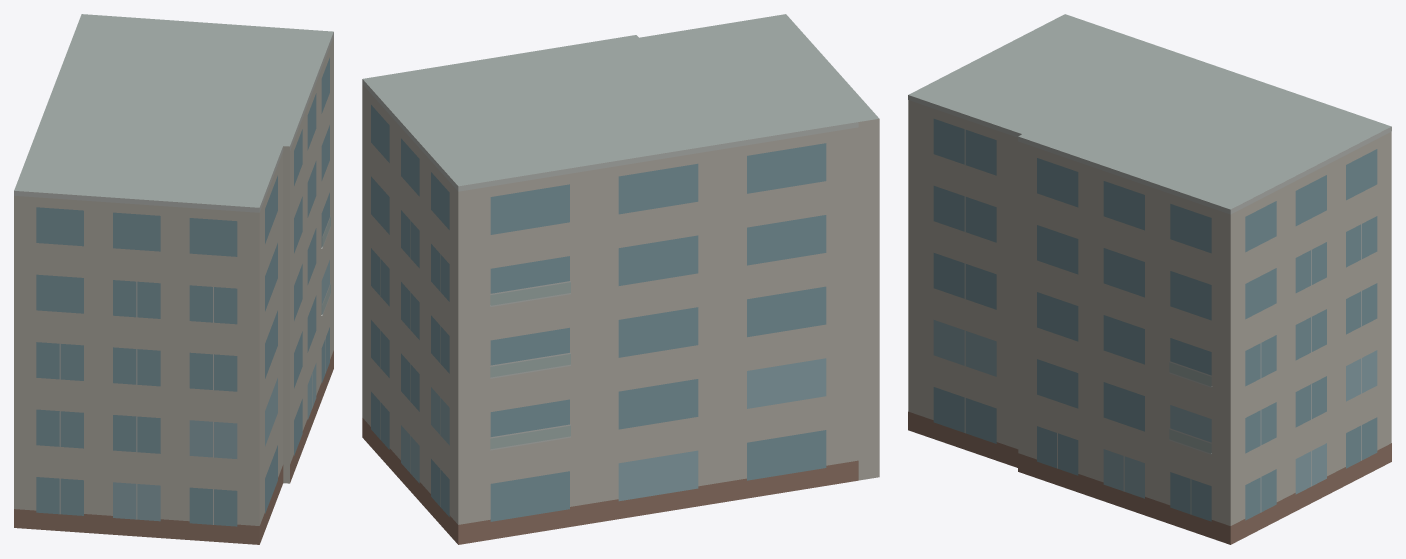
Rendered from survey-upis-32971187.glb.
3 views of the same model, side by side, from view 1: azimuth 30°, elevation 25°; view 2: azimuth 150°, elevation 25°; view 3: azimuth 270°, elevation 25° (orthographic). The views are drawn at different scales.
Parts seen in each view (by area): view 1: survey-upis-32971187.tmp; view 2: survey-upis-32971187.tmp; view 3: survey-upis-32971187.tmp.
Boxes of the visible parts, left/top/right/bottom form: survey-upis-32971187.tmp: left=14, top=14, right=333, bottom=544; survey-upis-32971187.tmp: left=362, top=14, right=879, bottom=544; survey-upis-32971187.tmp: left=908, top=14, right=1391, bottom=544.
Size of the model in its own units: 20.52 by 16.4 by 21.44.
